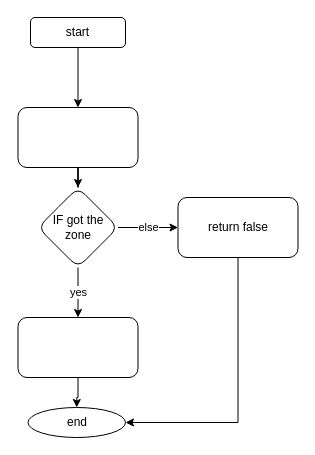
This 315x455 diagram has some shape labels left out. The centre of each missing label's shape, as x and y in pixels:
agent position search against player zone: the point at 77,137
return the zone property: the point at 77,347
